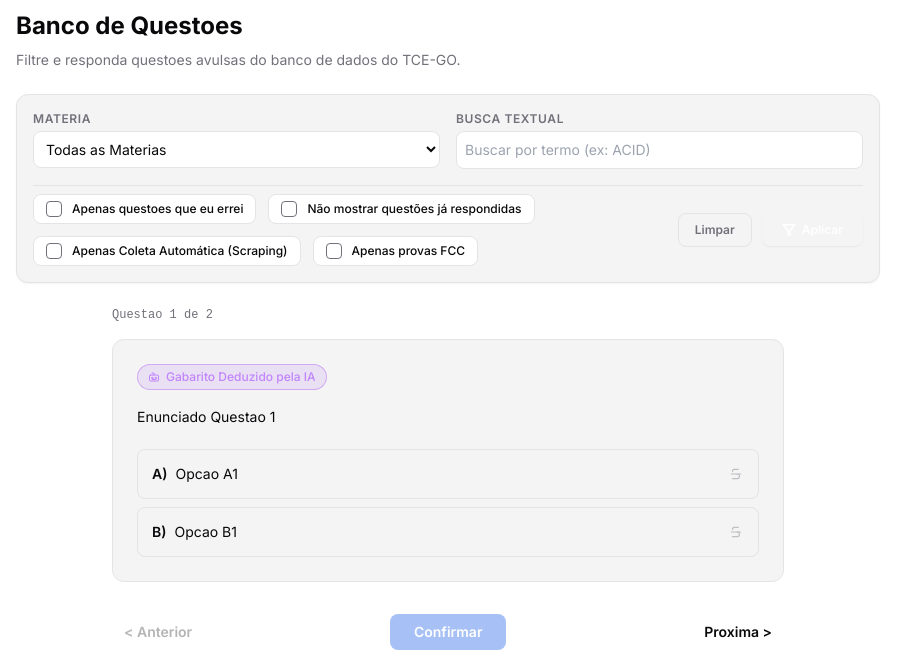
it: BancoQuestoes - Navegacao Continua › @spec:AC-038 navega para a questao anterior ao clicar em Anterior
Check: the text "Enunciado Questao 1" is shown, box 137,408 -> 276,425
What coordinates should you click on to do the following:
click the button "Proxima >"
I would click on:
 (738, 632)
Its box is 692,616 -> 784,648.
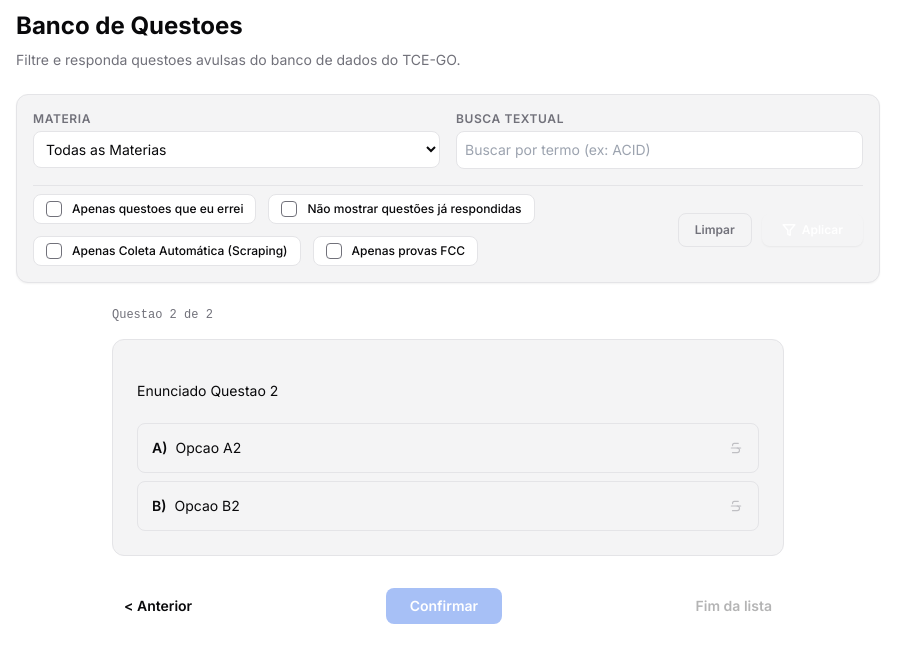
Check: the text "Enunciado Questao 2" is shown, box 137,382 -> 278,399
Check: the button "< Anterior" is enabled
What coordinates should you click on to do the following:
click the button "< Anterior"
I would click on:
 (158, 606)
Its box is 112,590 -> 204,622.
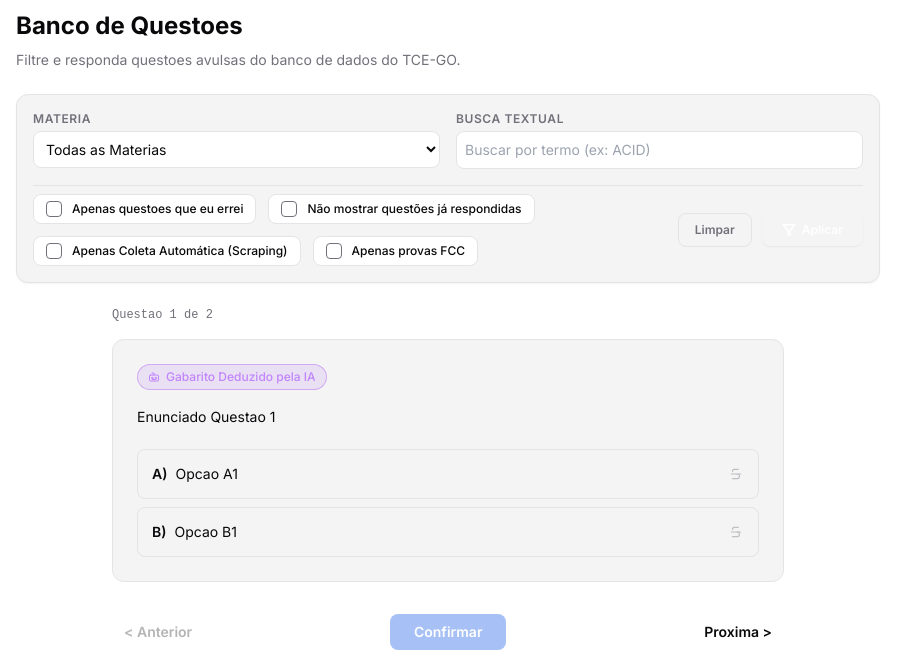
Check: the text "Enunciado Questao 1" is shown, box 137,408 -> 276,425
Check: the text "Questao 1 de 2" is shown, box 112,307 -> 213,323
